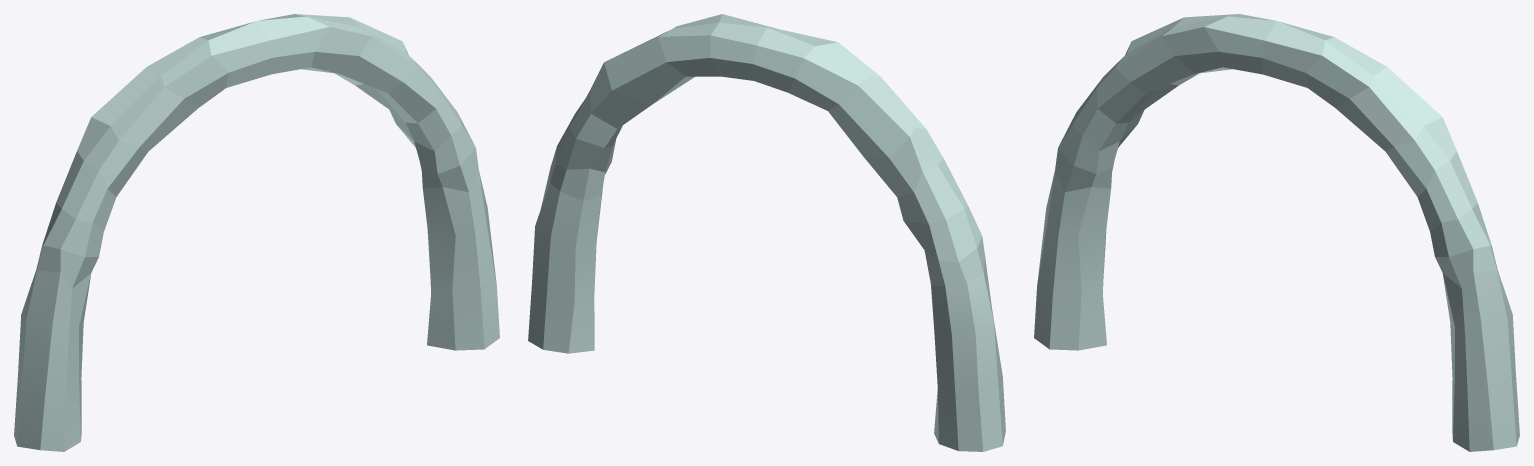
File: Boulder_Obstacle_Arch.fbx
3 renders of one model, left to right at view 1: azimuth 30°, elevation 25°; view 2: azimuth 150°, elevation 25°; view 3: azimuth 330°, elevation 25°, orthographic.
Visible parts, largest first — view 1: BoulderObstacle_Arch; view 2: BoulderObstacle_Arch; view 3: BoulderObstacle_Arch.
Part boxes in pixels (<box>): BoulderObstacle_Arch: <box>14,14,499,451</box>; BoulderObstacle_Arch: <box>528,14,1005,451</box>; BoulderObstacle_Arch: <box>1034,14,1519,451</box>.
Size of the model in its own units: 18.09 by 13.28 by 2.22.
